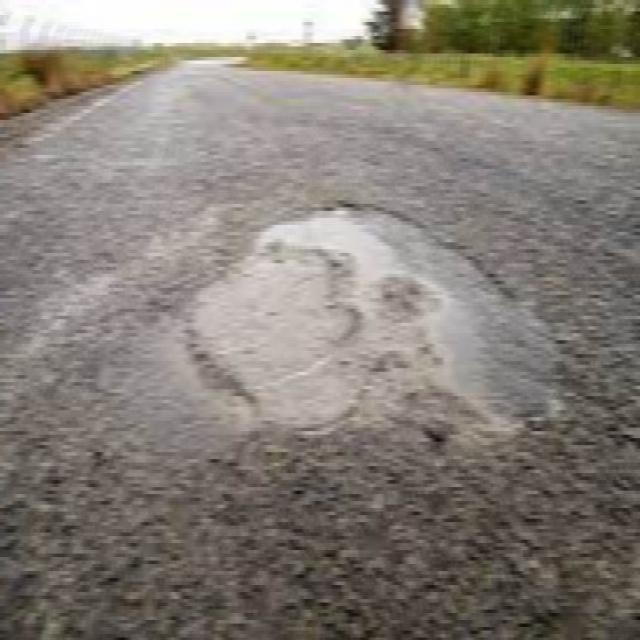Pothole: (178, 181, 572, 447)
